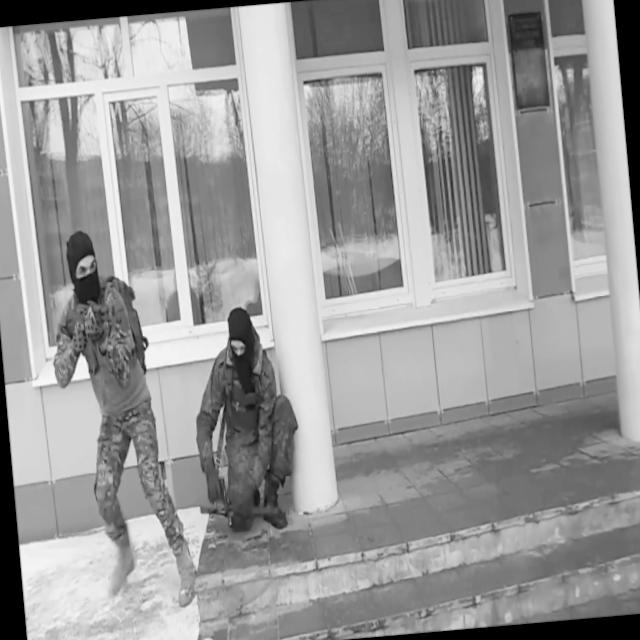gun: (62, 296, 126, 378), (205, 474, 230, 520)
person with a gun: (41, 222, 200, 618), (185, 302, 307, 536)
